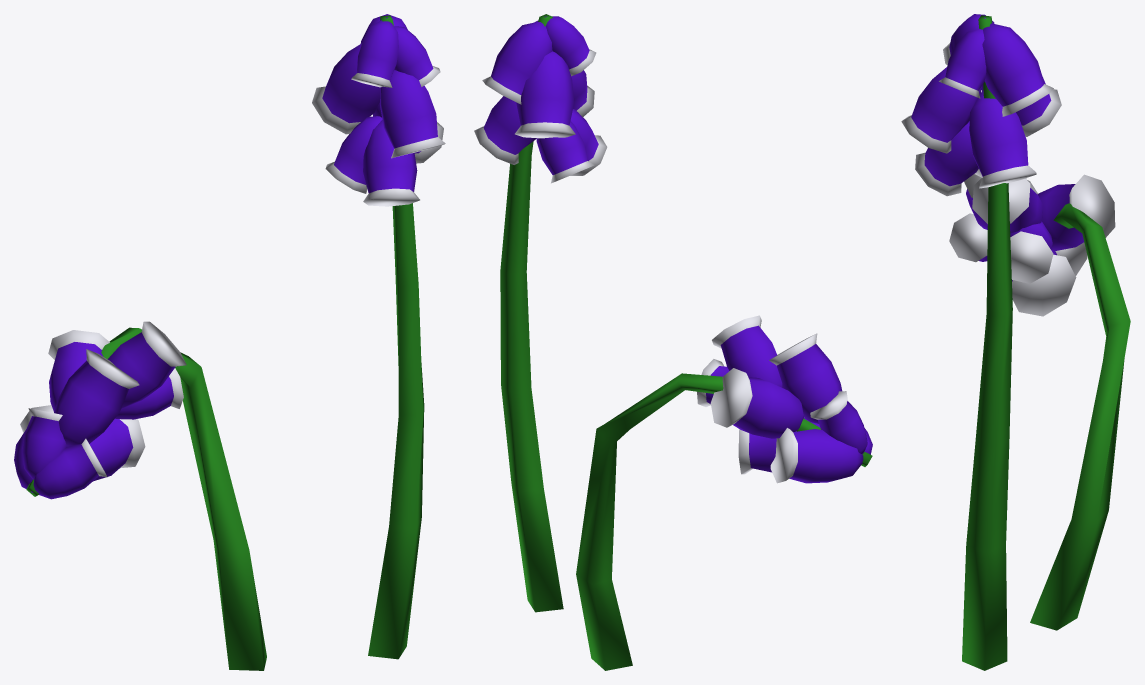
File: BlueFlower75P.fbx
3 views of the same model, side by side, from view 1: azimuth 30°, elevation 25°; view 2: azimuth 150°, elevation 25°; view 3: azimuth 270°, elevation 25° (orthographic). The views are drawn at different scales.
Visible parts, largest first — view 1: 75Percent; view 2: 75Percent; view 3: 75Percent.
Boxes of the visible parts, x1,y1,x2,y2 form: 75Percent: (14, 14, 445, 670); 75Percent: (474, 14, 872, 670); 75Percent: (901, 14, 1130, 670).
Size of the model in its own units: 0.3993 by 0.1875 by 0.5904.
